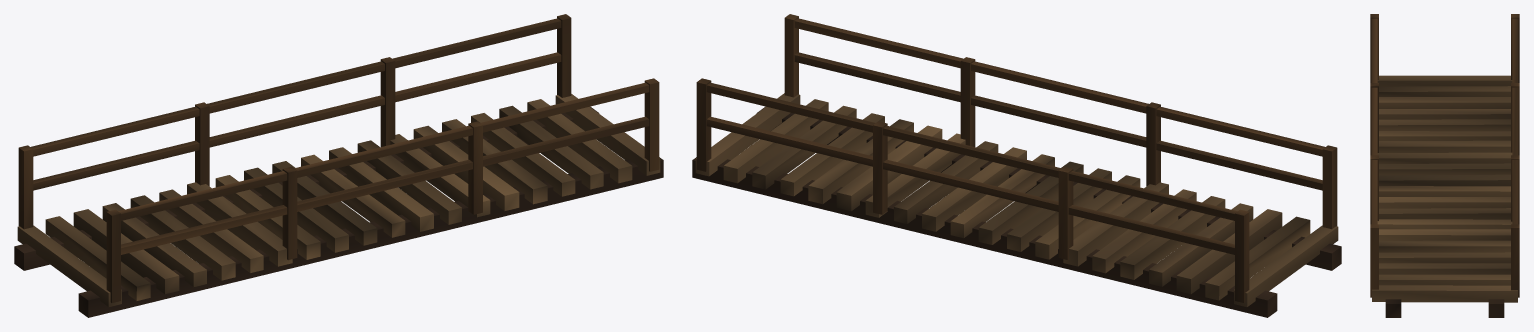
File: footbridge.glb
The picture shows the model from 3 angles, left to right: view 1: azimuth 30°, elevation 25°; view 2: azimuth 150°, elevation 25°; view 3: azimuth 270°, elevation 25°; orthographic projection. The views are drawn at different scales.
Parts seen in each view (by area): view 1: footbridge; view 2: footbridge; view 3: footbridge.
Boxes of the visible parts, x1,y1,x2,y2 form: footbridge: [14, 14, 663, 317]; footbridge: [692, 14, 1341, 317]; footbridge: [1370, 14, 1519, 317].
Size of the model in its own units: 6.2 by 1.09 by 1.74.
